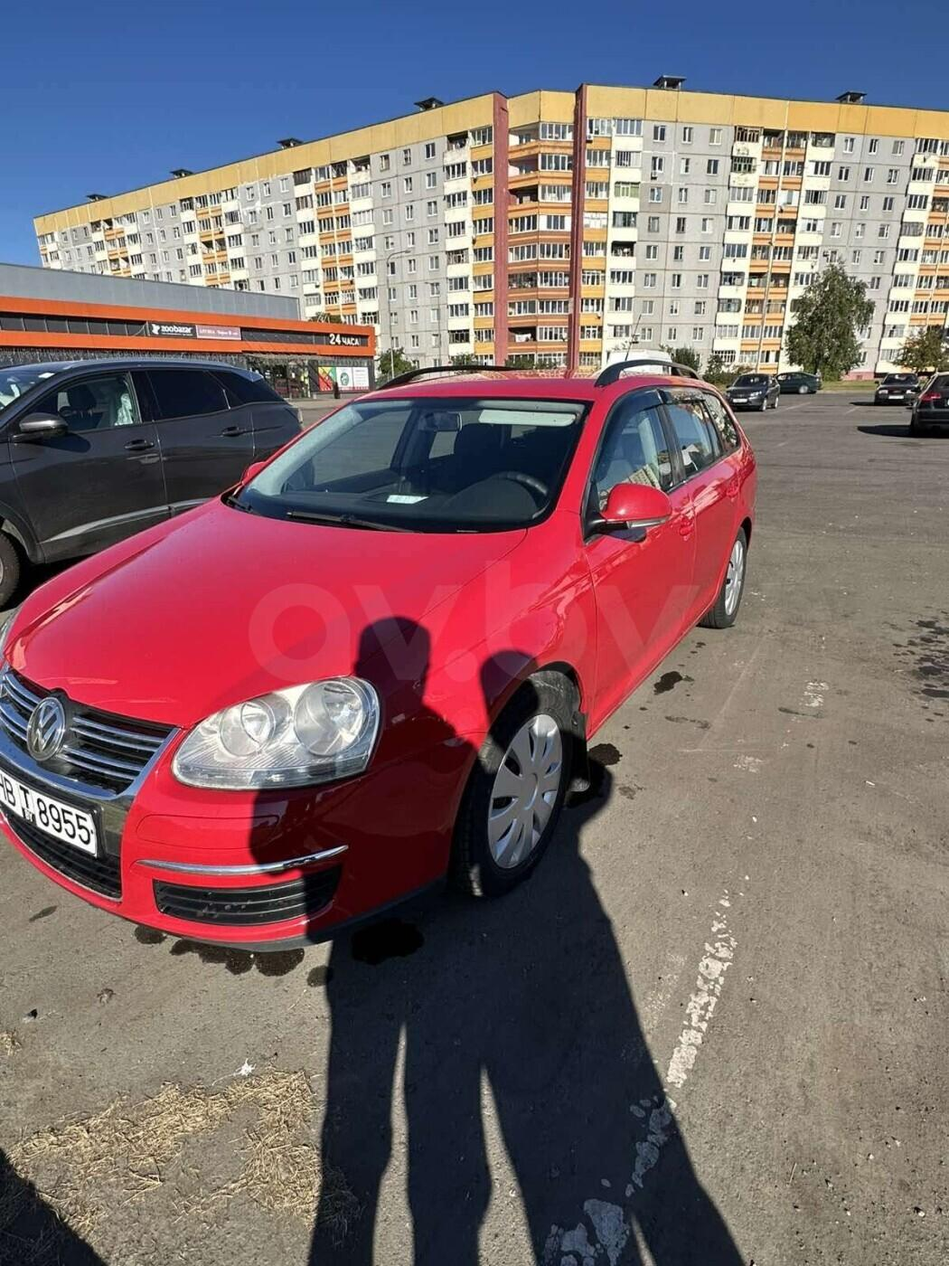Golf_2003-2009: (0, 367, 762, 940)
